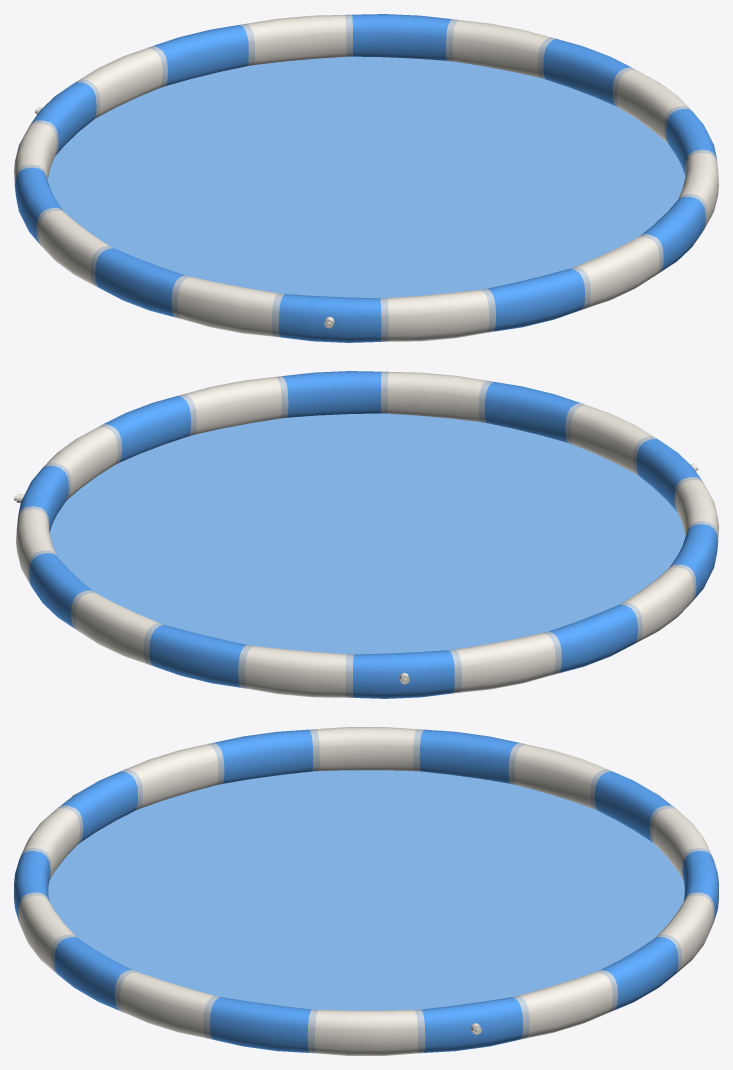
Rendered from PaddlingPool.fbx.
3 renders of one model, top to bottom at view 1: azimuth 30°, elevation 25°; view 2: azimuth 150°, elevation 25°; view 3: azimuth 270°, elevation 25°, orthographic.
Visible parts, largest first — view 1: PaddlingPool; view 2: PaddlingPool; view 3: PaddlingPool.
Part boxes in pixels (x1,y1,x2,y2): PaddlingPool: (14, 14, 718, 342); PaddlingPool: (14, 371, 718, 698); PaddlingPool: (14, 727, 718, 1055).
Size of the model in its own units: 18.89 by 1.21 by 18.89.
